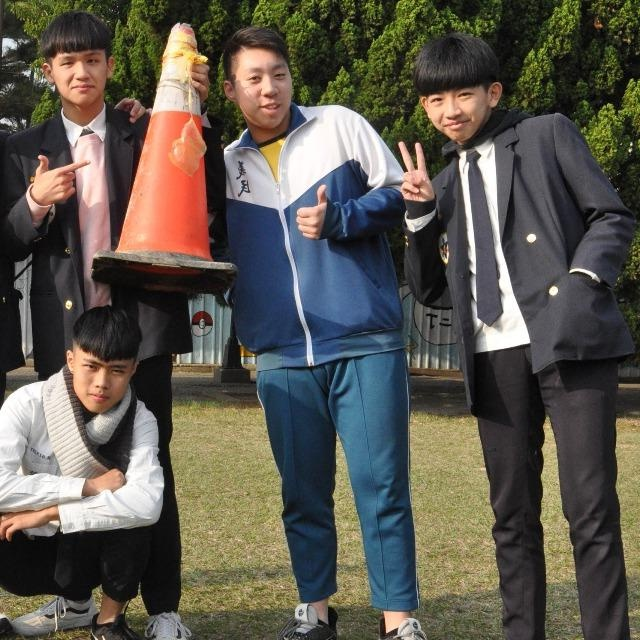Sin_Casco_Mascarrilla: (412, 30, 501, 145), (37, 10, 115, 109), (221, 25, 293, 131)
